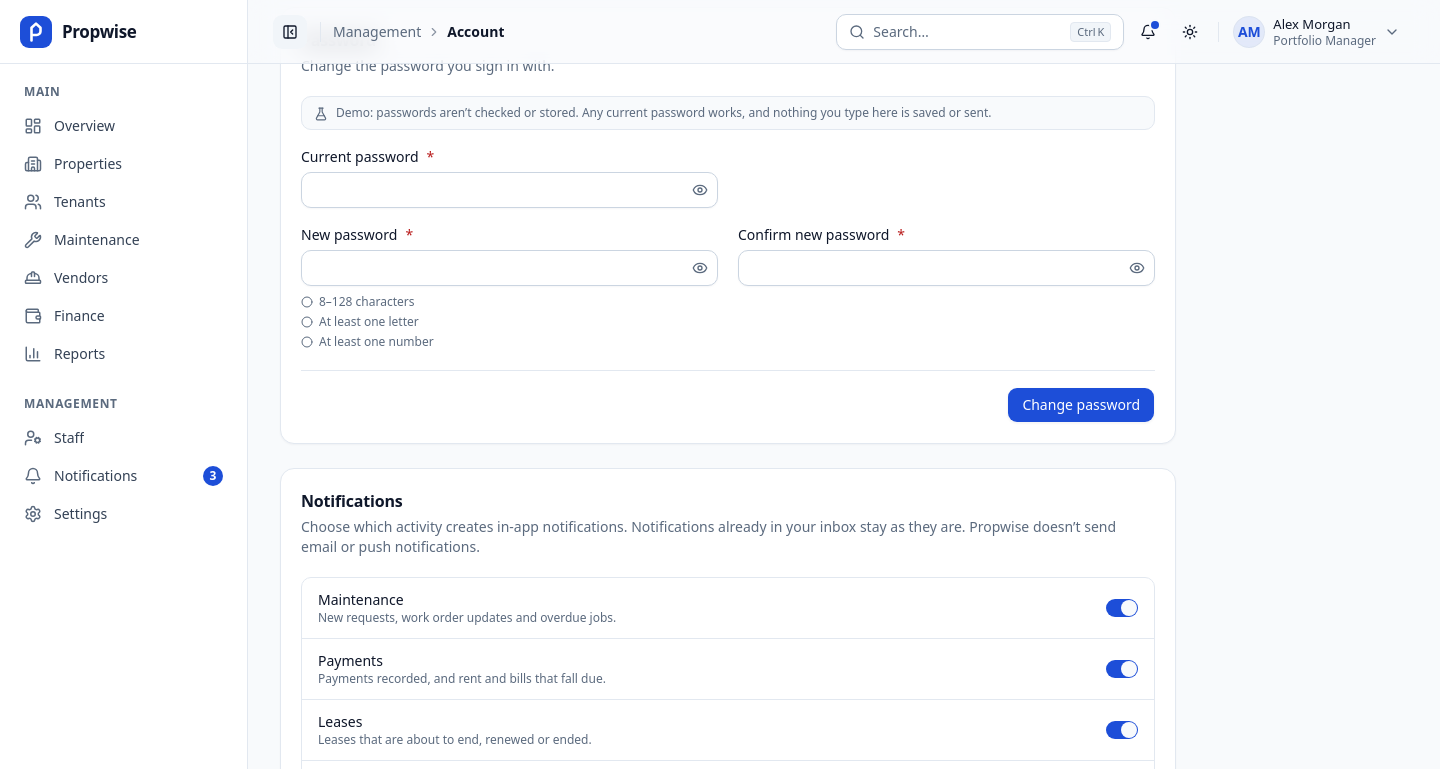
Account page › the password form is a demo: validates, stores nothing and never claims a change
This screenshot has width=1440, height=769.
(page scrolled)
Expected: the element "Password" shows "Demo: passwords aren’t checked or stored", [336,104,992,121]
Click the button "Change password" at (1081, 405), box [1007,387,1155,423]
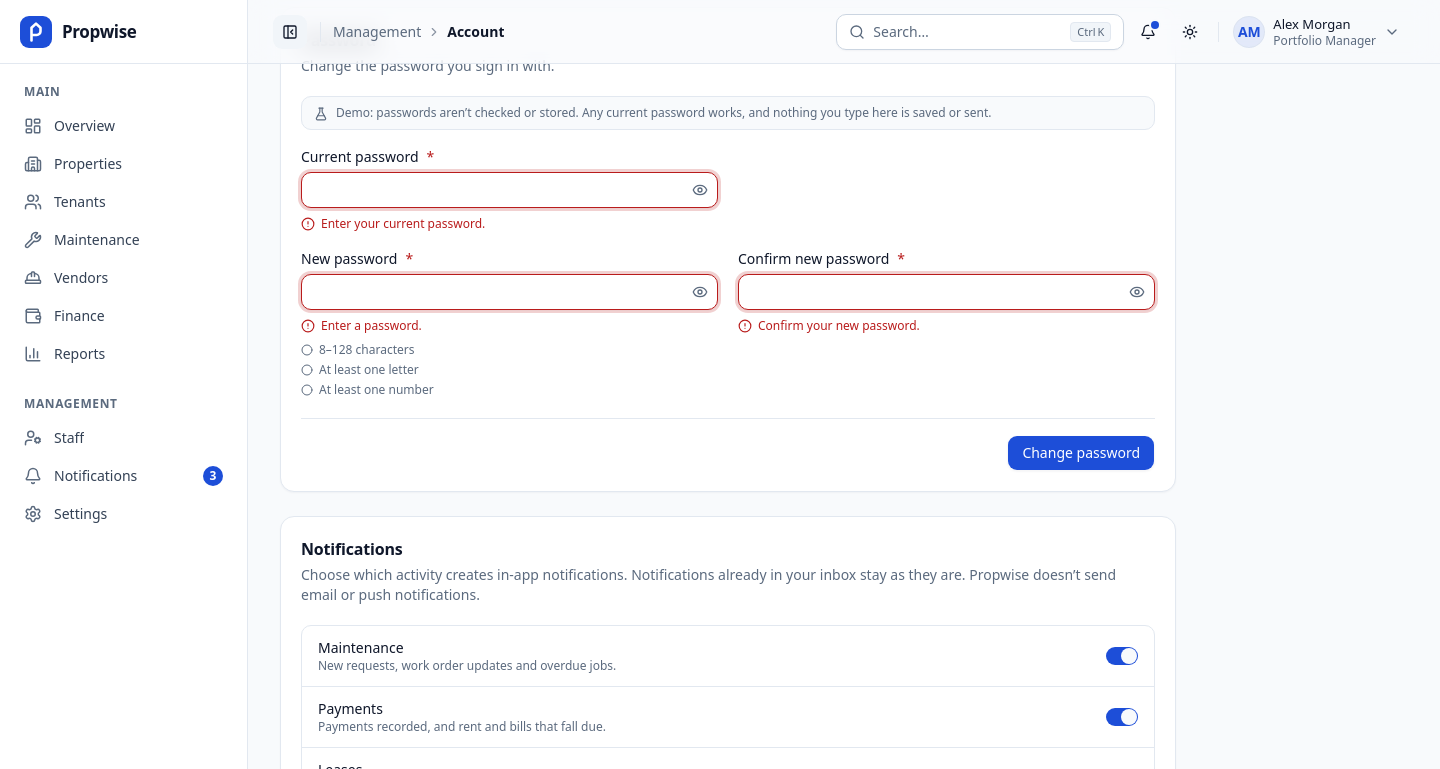
Expected: the text "Enter your current password." is shown, [301,215,485,232]
Expected: the text "Enter a password." is shown, [301,317,422,334]
Type "old-secret-1" into the password field labelled "Current password *" at (510, 190), box [301,172,718,208]
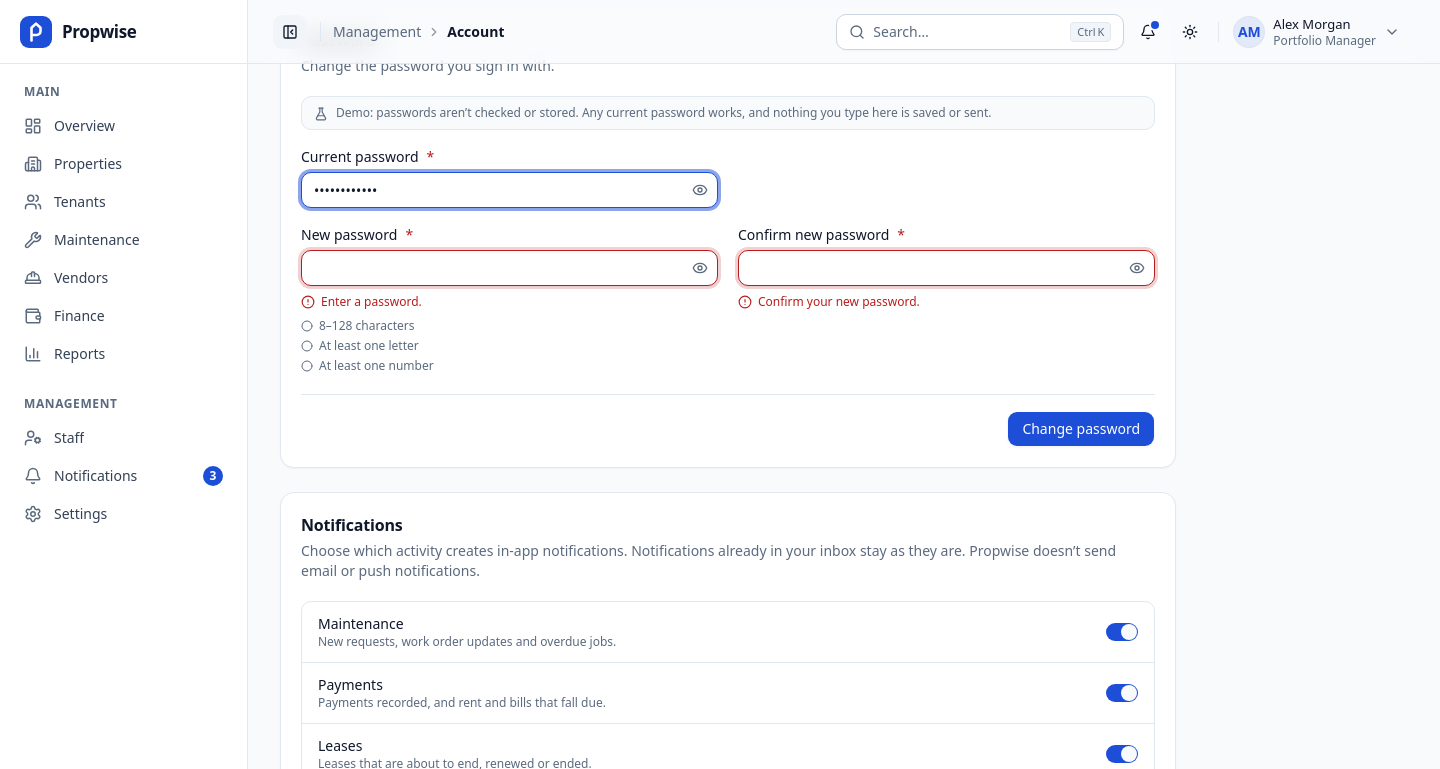
Type "NewSecret42" into the password field labelled "New password *" at (510, 268), box [301,250,718,286]
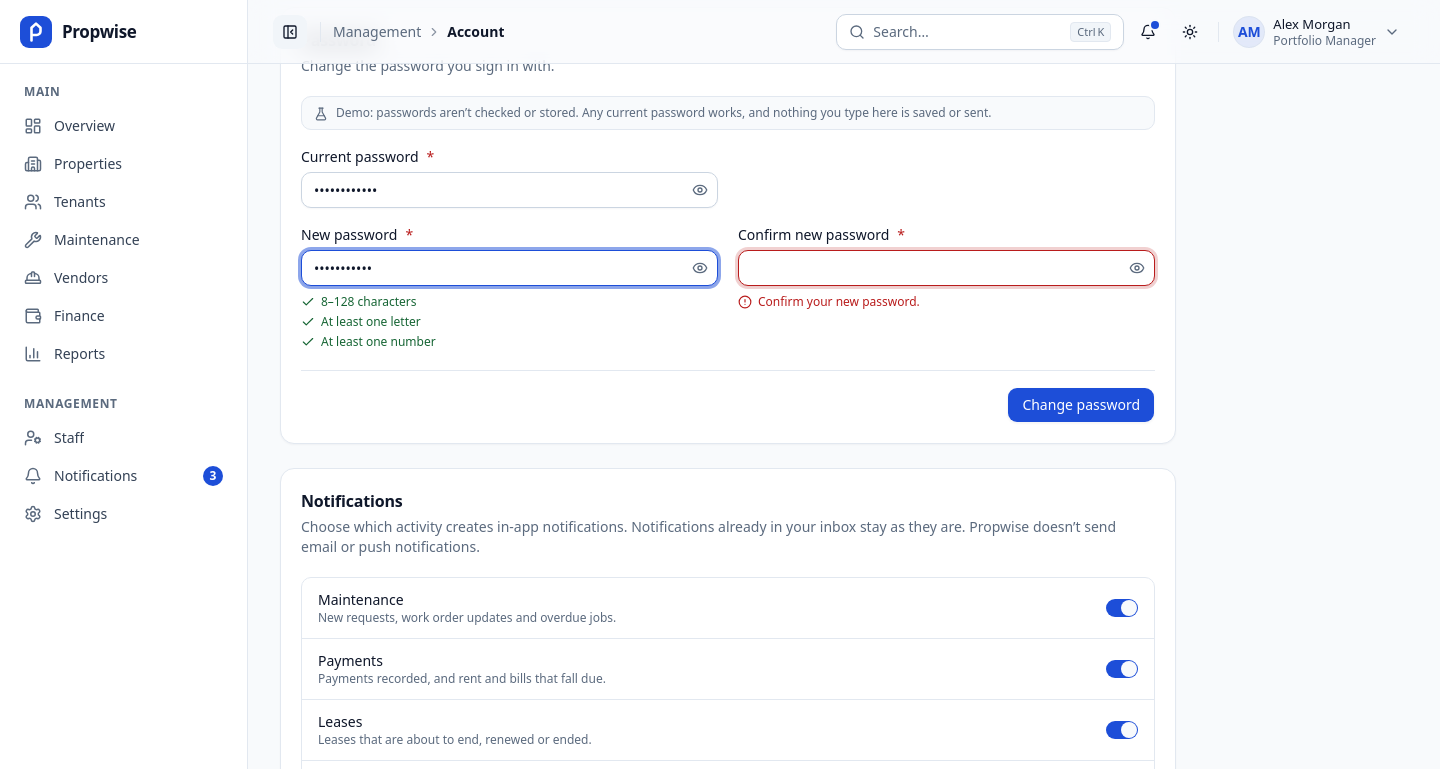
Type "NewSecret42" into the password field labelled "Confirm new password *" at (946, 268), box [738,250,1155,286]
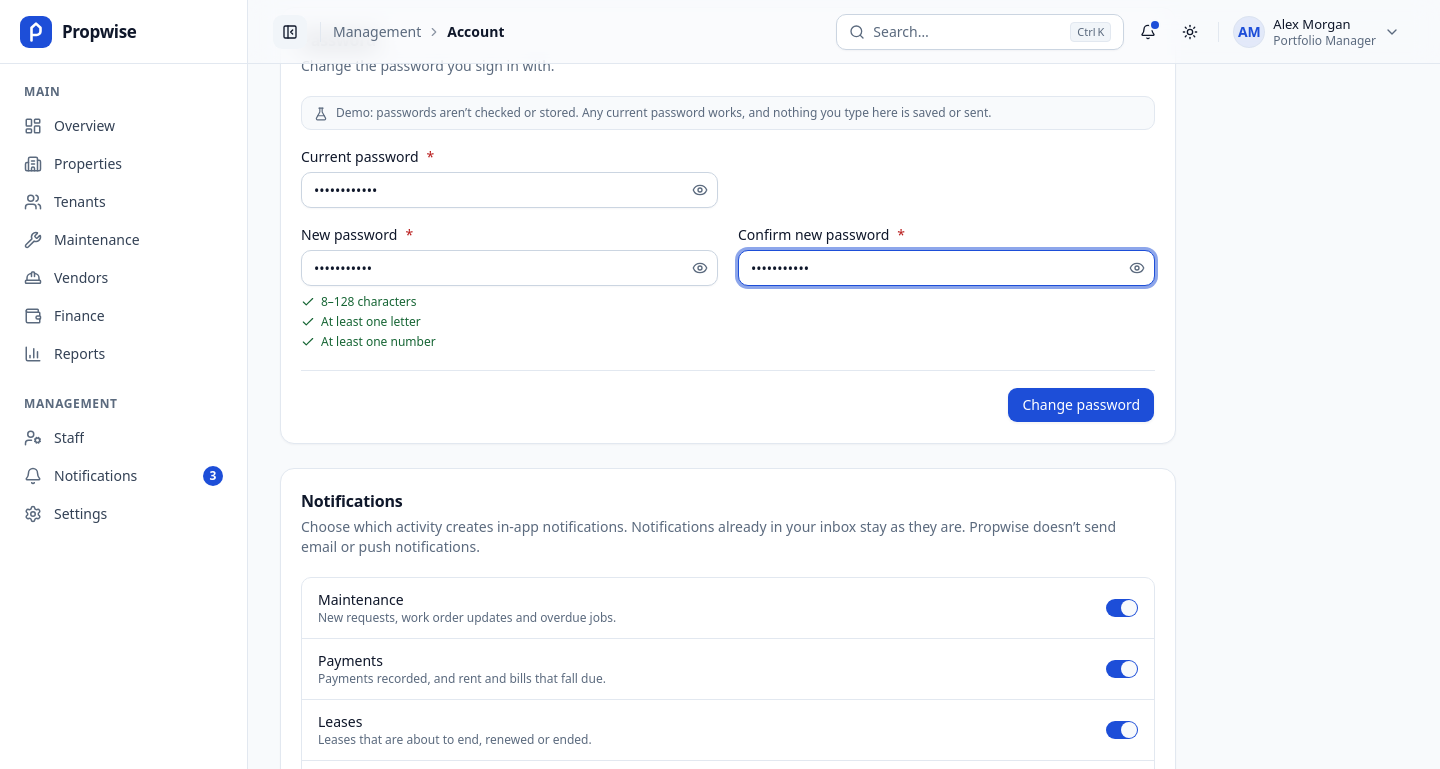
Click the button "Change password" at (1081, 405), box [1007,387,1155,423]
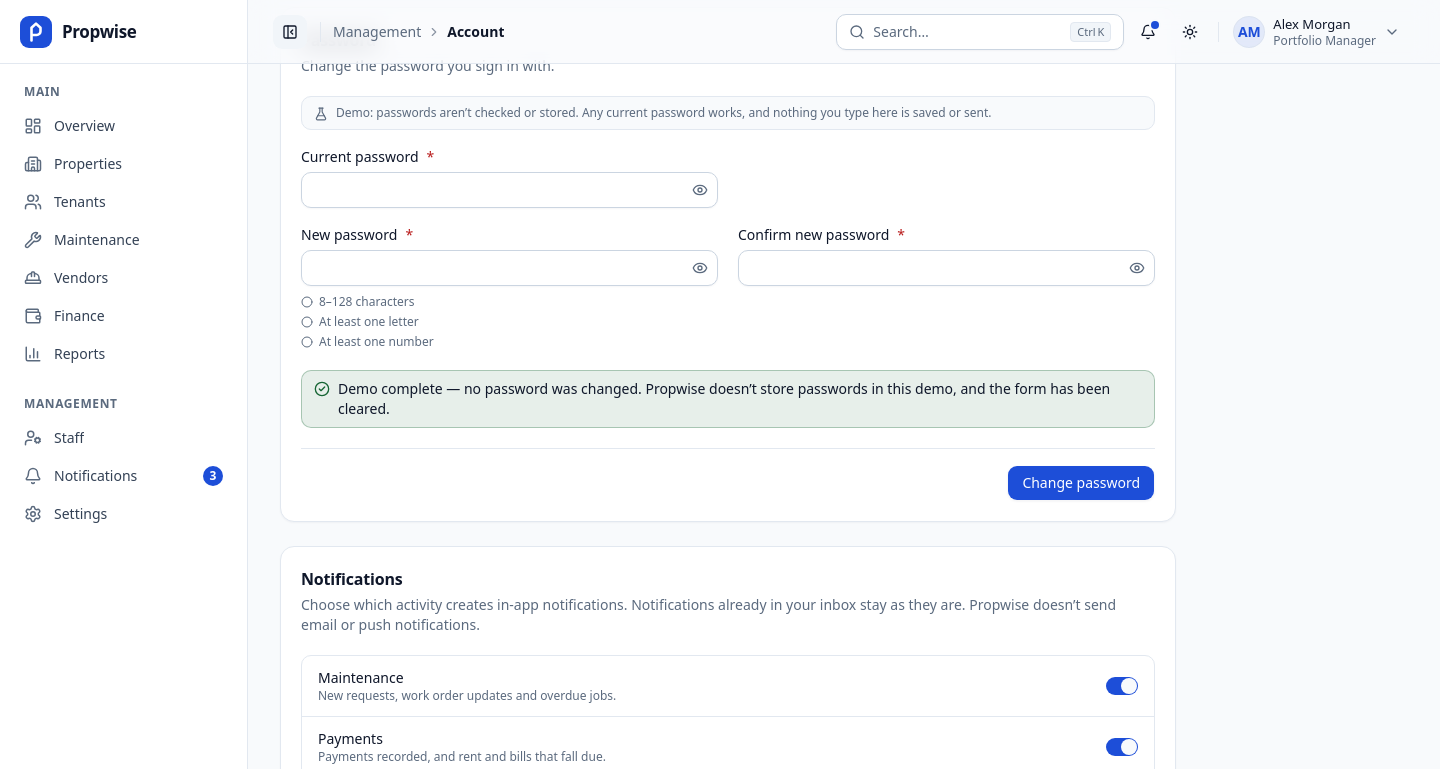
Expected: the text "Demo complete — no password was changed." is shown, [338,379,642,398]
Expected: the password field labelled "Current password *" is empty, [301,172,718,208]
